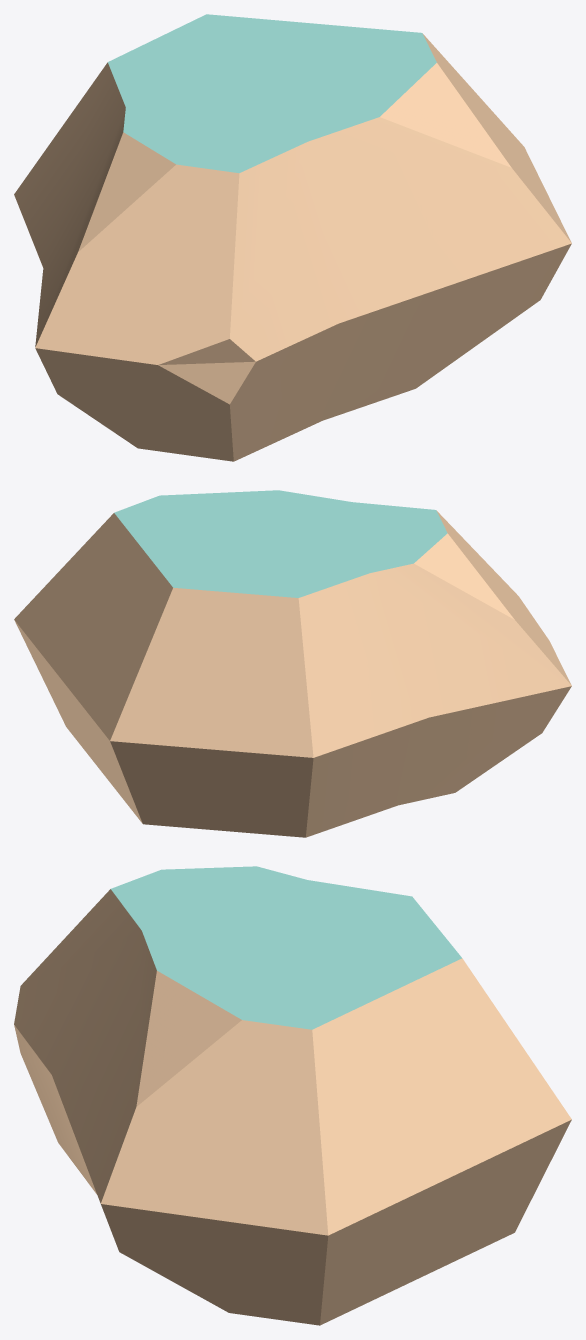
Rendered from rock_large6.glb.
The picture shows the model from 3 angles, top to bottom: view 1: azimuth 30°, elevation 25°; view 2: azimuth 150°, elevation 25°; view 3: azimuth 270°, elevation 25°; orthographic projection. The views are drawn at different scales.
Visible parts, largest first — view 1: rock_large6; view 2: rock_large6; view 3: rock_large6.
Part boxes in pixels (bbox=[...]): rock_large6: bbox=[14, 14, 571, 461]; rock_large6: bbox=[14, 490, 571, 837]; rock_large6: bbox=[14, 866, 571, 1325].
Size of the model in its own units: 1.1 by 0.479 by 0.899.
